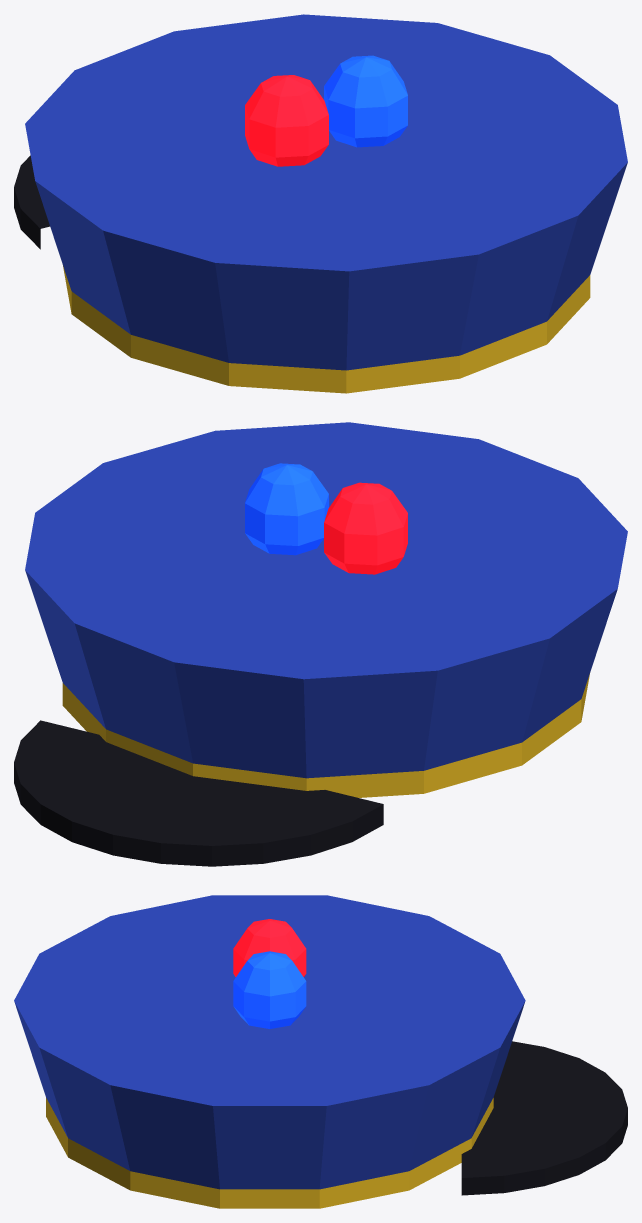
File: disguise_party_cap.glb
3 views of the same model, one above another, from view 1: azimuth 30°, elevation 25°; view 2: azimuth 150°, elevation 25°; view 3: azimuth 270°, elevation 25° (orthographic). The views are drawn at different scales.
Parts seen in each view (by area): view 1: crown_party_blue, band_party_gold, light_party_light_red, light_party_light_blue, visor_party_visor; view 2: crown_party_blue, visor_party_visor, band_party_gold, light_party_light_red, light_party_light_blue; view 3: crown_party_blue, visor_party_visor, band_party_gold, light_party_light_blue, light_party_light_red.
Boxes of the visible parts, x1=… form: crown_party_blue: x1=25, y1=14, x2=627, y2=370; band_party_gold: x1=63, y1=266, x2=590, y2=393; light_party_light_red: x1=245, y1=75, x2=328, y2=166; light_party_light_blue: x1=324, y1=55, x2=407, y2=147; visor_party_visor: x1=14, y1=155, x2=49, y2=249; crown_party_blue: x1=25, y1=422, x2=627, y2=778; visor_party_visor: x1=14, y1=720, x2=383, y2=866; band_party_gold: x1=62, y1=674, x2=589, y2=797; light_party_light_red: x1=324, y1=482, x2=407, y2=574; light_party_light_blue: x1=245, y1=463, x2=328, y2=555; crown_party_blue: x1=14, y1=895, x2=525, y2=1189; visor_party_visor: x1=461, y1=1041, x2=627, y2=1195; band_party_gold: x1=46, y1=1098, x2=493, y2=1208; light_party_light_blue: x1=233, y1=951, x2=306, y2=1028; light_party_light_red: x1=233, y1=919, x2=306, y2=976.
Bounding box in the file's own units: 0.39 × 0.1625 × 0.48.
